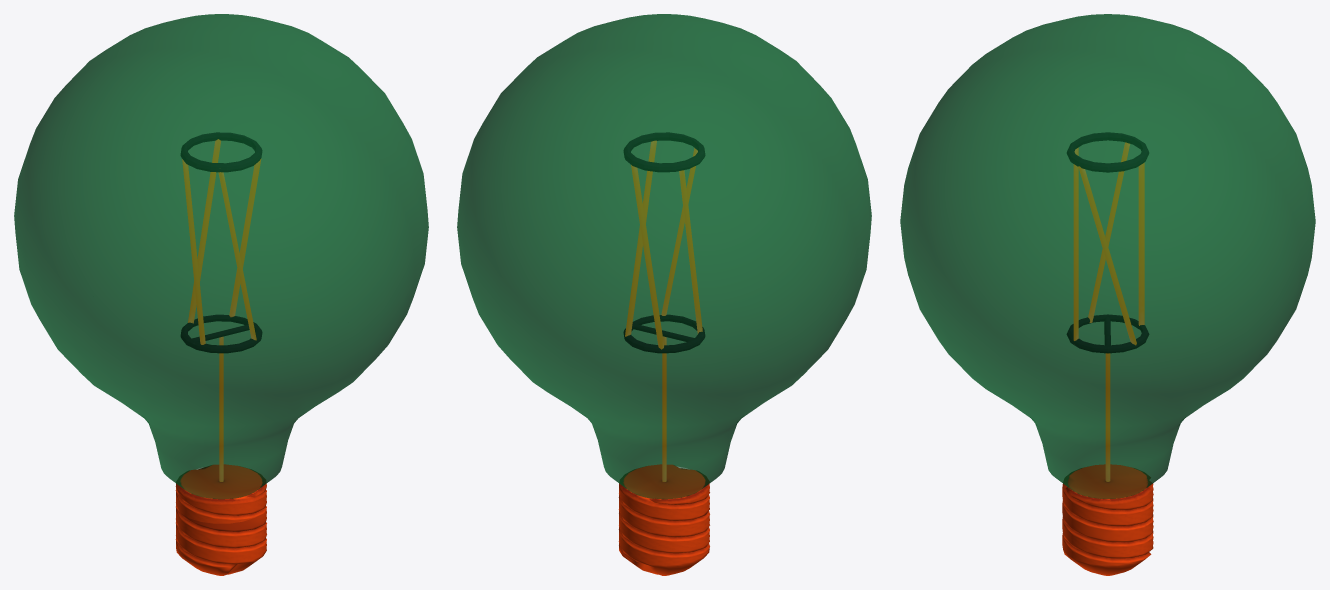
3 views of the same model, side by side, from view 1: azimuth 30°, elevation 25°; view 2: azimuth 150°, elevation 25°; view 3: azimuth 270°, elevation 25° (orthographic).
Visible parts, largest first — view 1: bulbUpper, bulbLower, filament; view 2: bulbUpper, bulbLower, filament; view 3: bulbUpper, bulbLower, filament.
Part boxes in pixels (bbox=[...]): bulbUpper: bbox=[14, 14, 428, 499]; bulbLower: bbox=[175, 464, 266, 575]; filament: bbox=[180, 132, 262, 481]; bulbUpper: bbox=[457, 14, 871, 499]; bulbLower: bbox=[618, 464, 709, 575]; filament: bbox=[623, 132, 705, 481]; bulbUpper: bbox=[900, 14, 1315, 498]; bulbLower: bbox=[1062, 464, 1153, 575]; filament: bbox=[1067, 132, 1148, 481].
Size of the model in its own units: 1.4 by 2 by 1.4.
1 material, 1 textured.
